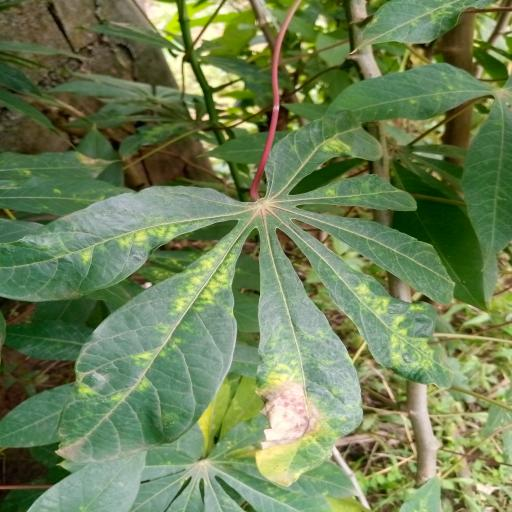Cassava_Mosaic: (0, 110, 449, 490)
